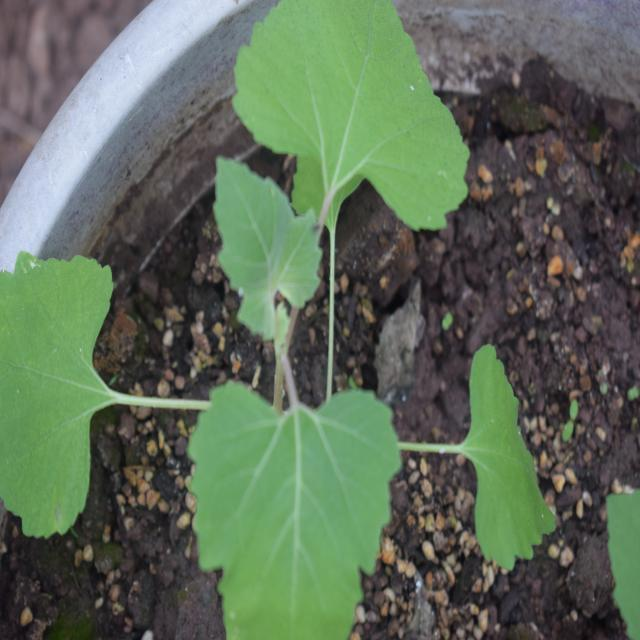cocklebur: (0, 7, 505, 596)
